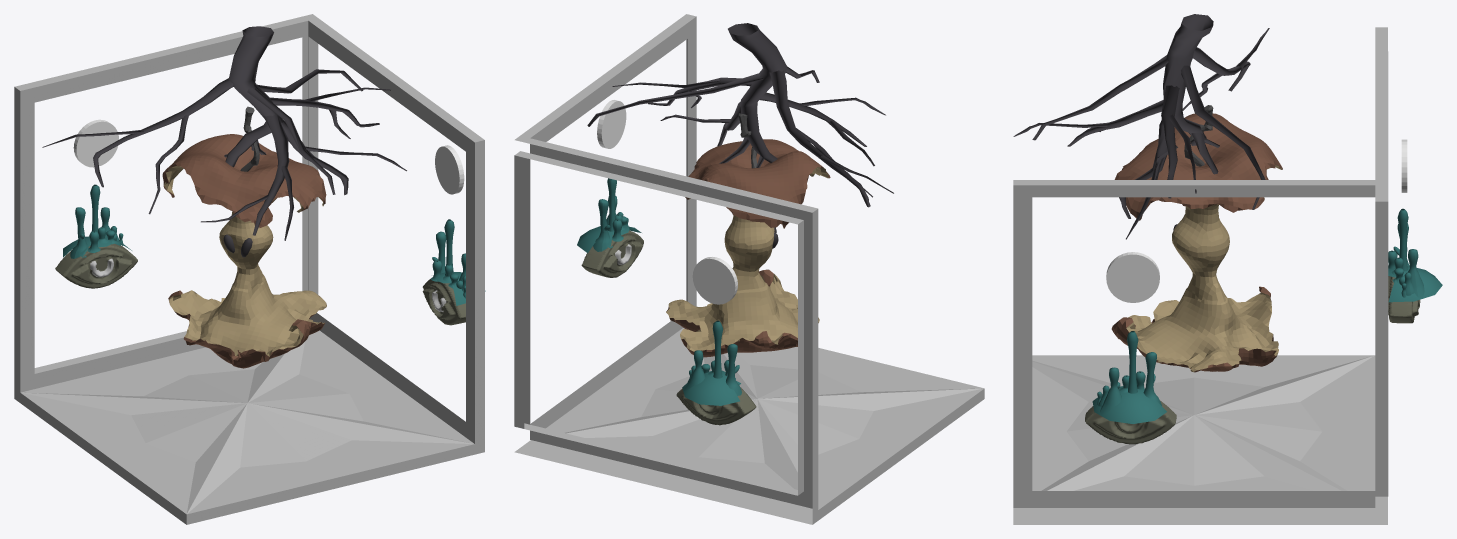
Rendered from text_wutonsence002.fbx.
3 renders of one model, left to right at view 1: azimuth 30°, elevation 25°; view 2: azimuth 150°, elevation 25°; view 3: azimuth 270°, elevation 25°, orthographic. The views are drawn at different scales.
Parts seen in each view (by area): view 1: 立方体, Line002.006, tree, eye_out001.003, eyeman, eyeman.001, 柱体, eye_out001.001, 柱体.002; view 2: 立方体, Line002.006, tree, eyeman, eyeman.001, eye_out001.001, 柱体, eye_out001.003, 柱体.002; view 3: 立方体, Line002.006, tree, eyeman.001, eyeman, 柱体.002, eye_out001.001, eye_out001.003.
Part boxes in pixels (<box>): 立方体: <box>14,14,484,524</box>; Line002.006: <box>162,134,326,368</box>; tree: <box>42,26,406,240</box>; eye_out001.003: <box>55,243,137,288</box>; eyeman: <box>63,184,131,258</box>; eyeman.001: <box>430,219,485,305</box>; 柱体: <box>73,119,118,167</box>; eye_out001.001: <box>422,279,465,325</box>; 柱体.002: <box>435,145,464,194</box>; 立方体: <box>514,14,984,524</box>; Line002.006: <box>666,139,830,357</box>; tree: <box>587,23,893,207</box>; eyeman: <box>682,320,741,405</box>; eyeman.001: <box>577,178,641,253</box>; eye_out001.001: <box>581,230,643,277</box>; 柱体: <box>692,257,737,304</box>; eye_out001.003: <box>676,387,756,425</box>; 柱体.002: <box>597,100,626,148</box>; 立方体: <box>1013,27,1388,524</box>; Line002.006: <box>1111,113,1282,372</box>; tree: <box>1013,14,1269,239</box>; eyeman.001: <box>1092,331,1166,423</box>; eyeman: <box>1388,208,1442,302</box>; 柱体.002: <box>1106,252,1159,302</box>; eye_out001.001: <box>1085,400,1176,444</box>; eye_out001.003: <box>1388,276,1420,323</box>.
Bounding box in the file's own units: 1306 × 1307 × 1187.
